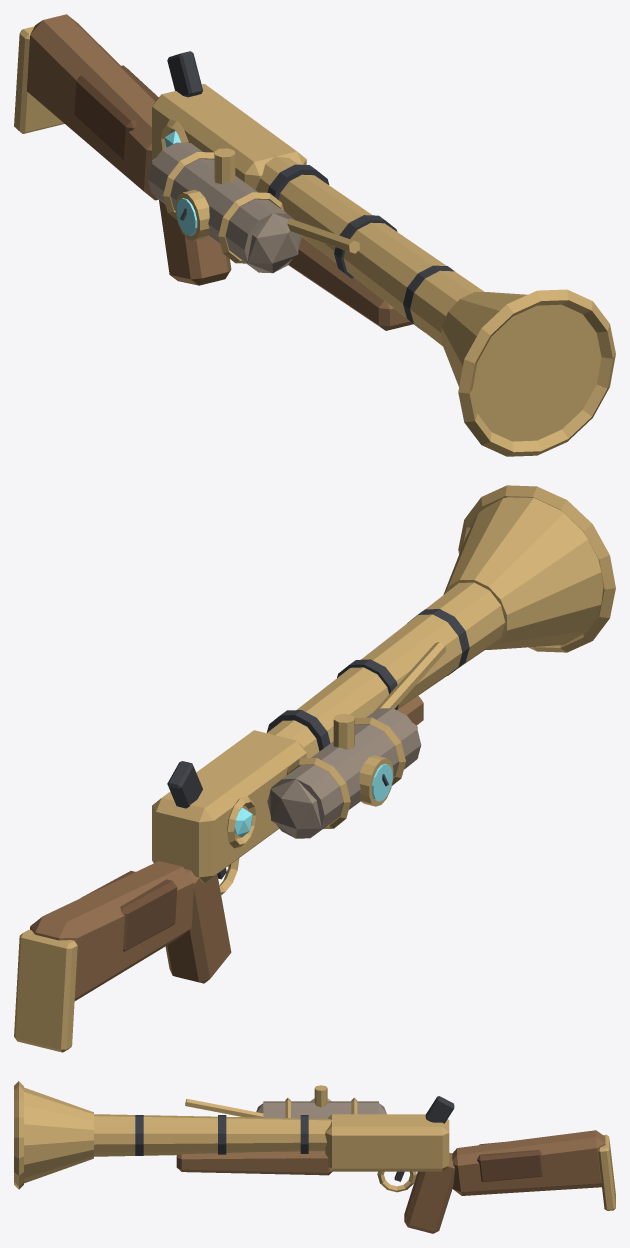
File: Tromblon_Vapeur.fbx
The picture shows the model from 3 angles, top to bottom: view 1: azimuth 30°, elevation 25°; view 2: azimuth 150°, elevation 25°; view 3: azimuth 270°, elevation 25°; orthographic projection. The views are drawn at different scales.
Parts seen in each view (by area): view 1: Tromblon_Vapeur_Laiton, Tromblon_Vapeur_Bois, Tromblon_Vapeur_Fer, Tromblon_Vapeur_Metal, Tromblon_Vapeur_Cuir, Tromblon_Vapeur_Noyau; view 2: Tromblon_Vapeur_Laiton, Tromblon_Vapeur_Bois, Tromblon_Vapeur_Fer, Tromblon_Vapeur_Metal, Tromblon_Vapeur_Cuir, Tromblon_Vapeur_Noyau; view 3: Tromblon_Vapeur_Laiton, Tromblon_Vapeur_Bois, Tromblon_Vapeur_Cuir, Tromblon_Vapeur_Fer, Tromblon_Vapeur_Metal.
Part boxes in pixels (<box>): Tromblon_Vapeur_Laiton: <box>14,26,615,456</box>; Tromblon_Vapeur_Bois: <box>26,14,413,330</box>; Tromblon_Vapeur_Fer: <box>148,142,301,273</box>; Tromblon_Vapeur_Metal: <box>167,51,454,332</box>; Tromblon_Vapeur_Cuir: <box>74,65,158,161</box>; Tromblon_Vapeur_Noyau: <box>164,131,197,235</box>; Tromblon_Vapeur_Laiton: <box>14,485,615,1052</box>; Tromblon_Vapeur_Bois: <box>30,696,423,1000</box>; Tromblon_Vapeur_Fer: <box>267,708,421,838</box>; Tromblon_Vapeur_Metal: <box>167,609,469,879</box>; Tromblon_Vapeur_Cuir: <box>81,871,177,951</box>; Tromblon_Vapeur_Noyau: <box>234,763,392,837</box>; Tromblon_Vapeur_Laiton: <box>14,1081,615,1210</box>; Tromblon_Vapeur_Bois: <box>176,1130,605,1233</box>; Tromblon_Vapeur_Cuir: <box>477,1142,542,1182</box>; Tromblon_Vapeur_Fer: <box>256,1101,386,1118</box>; Tromblon_Vapeur_Metal: <box>135,1096,454,1181</box>.
Bounding box in the file's own units: 76.43 × 96.24 × 365.
